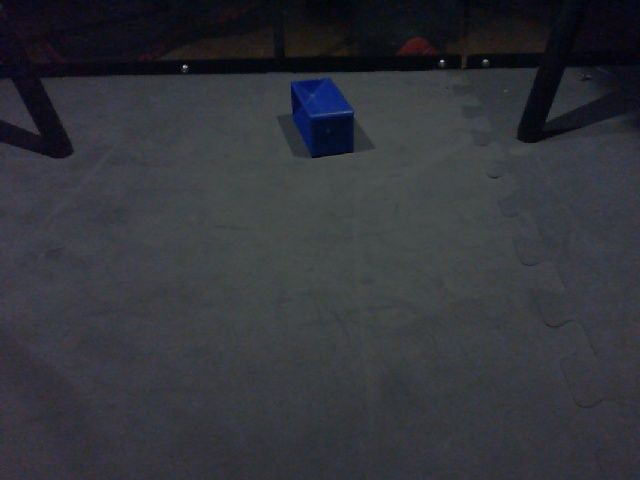BlueSample: (289, 75, 356, 157)
